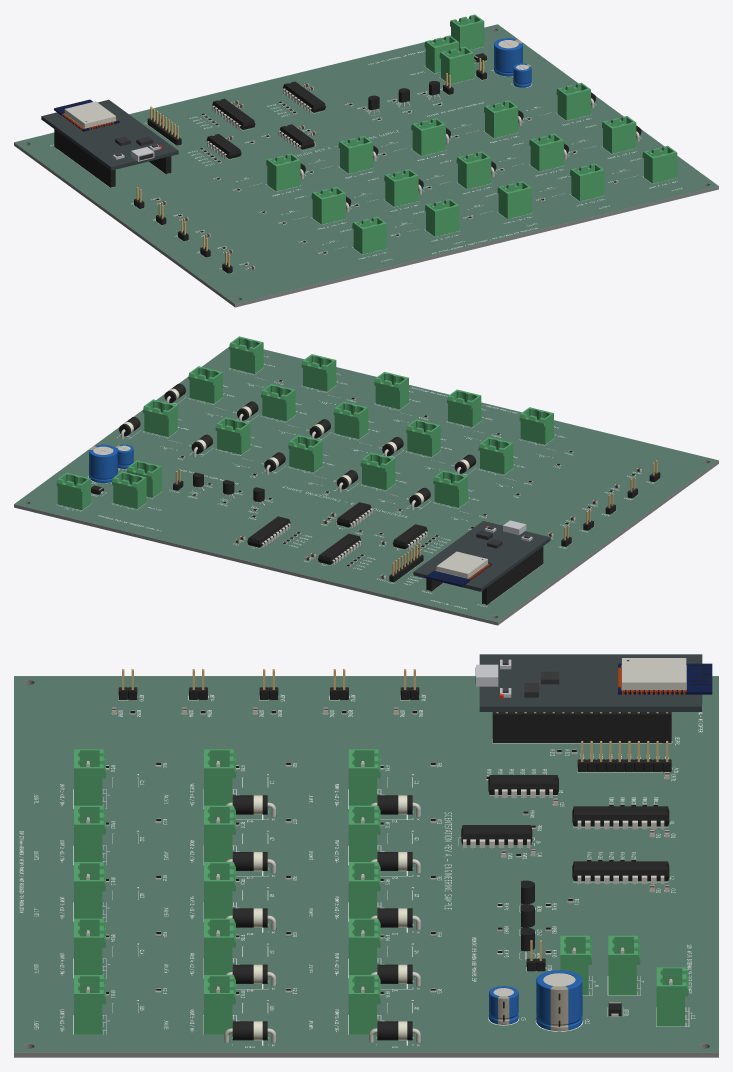
File: scentstation-web.glb
3 renders of one model, top to bottom at view 1: azimuth 30°, elevation 25°; view 2: azimuth 150°, elevation 25°; view 3: azimuth 270°, elevation 25°, orthographic. The views are drawn at different scales.
Parts seen in each view (by area): view 1: =>[0:1:1:19], =>[0:1:1:21], ESP_CARRIER_ILLUSTRATION_1, =>[0:1:1:18], WROOM_PREVIEW_ONLY, JESPL1, JLIGHT5, JLIGHT4, JPUMP2, JPUMP4, JLIGHT1, JVALVE3 (+18 smaller); view 2: =>[0:1:1:19], =>[0:1:1:21], ESP_CARRIER_ILLUSTRATION_1, =>[0:1:1:18], WROOM_PREVIEW_ONLY, JVALVE3, JESPL1, JPUMP4, JPUMP2, JLIGHT2, JVALVE1, JLIGHT4 (+18 smaller); view 3: =>[0:1:1:19], =>[0:1:1:21], ESP_CARRIER_ILLUSTRATION_1, =>[0:1:1:18], JESPR1, WROOM_PREVIEW_ONLY, C12, U1, U2, JBUCKIN1, J12, JLIGHT5 (+29 smaller).
Part boxes in pixels (x1,y1,x2,y2): =>[0:1:1:19]: (14,24,718,303); =>[0:1:1:21]: (14,25,718,307); ESP_CARRIER_ILLUSTRATION_1: (41,99,178,170); =>[0:1:1:18]: (50,47,682,273); WROOM_PREVIEW_ONLY: (54,99,119,131); JESPL1: (54,129,115,187); JLIGHT5: (642,145,677,183); JLIGHT4: (570,163,604,201); JPUMP2: (338,136,373,173); JPUMP4: (484,100,518,138); JLIGHT1: (352,216,386,254); JVALVE3: (456,151,491,189); =>[0:1:1:19]: (14,347,718,622); =>[0:1:1:21]: (14,348,718,625); ESP_CARRIER_ILLUSTRATION_1: (413,521,550,591); =>[0:1:1:18]: (59,356,660,609); WROOM_PREVIEW_ONLY: (425,551,491,586); JVALVE3: (333,401,368,439); JESPL1: (482,546,543,604); JPUMP4: (215,417,250,454); JPUMP2: (360,452,395,490); JLIGHT2: (447,389,481,426); JVALVE1: (478,437,513,474); JLIGHT4: (301,354,336,391); =>[0:1:1:19]: (14,676,718,1052); =>[0:1:1:21]: (14,677,718,1057); ESP_CARRIER_ILLUSTRATION_1: (479,654,702,711); =>[0:1:1:18]: (19,694,702,1047); JESPR1: (492,712,671,742); WROOM_PREVIEW_ONLY: (618,658,712,694); C12: (536,970,582,1031); U1: (572,806,669,829); U2: (572,861,669,884); JBUCKIN1: (608,935,640,995); J12: (656,967,688,1026); JLIGHT5: (74,975,105,1034).
Bounding box in the file's own units: 0.24 × 0.0187 × 0.19.
